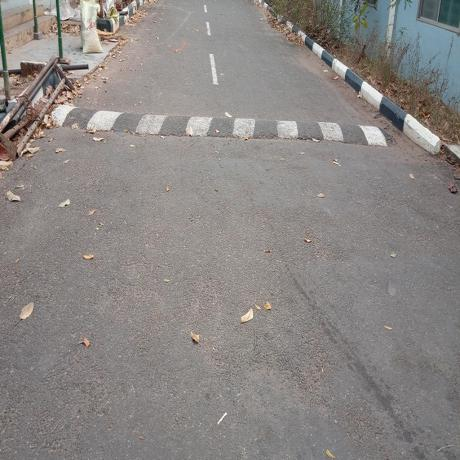Speed Bump: (40, 98, 388, 147)
